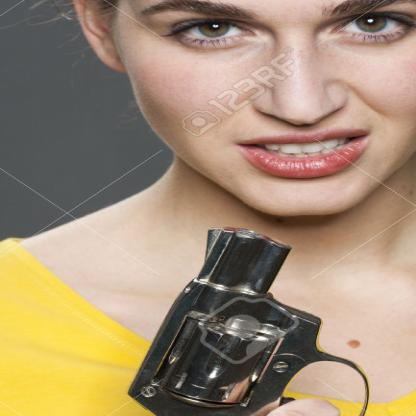gun: (127, 226, 368, 416)
